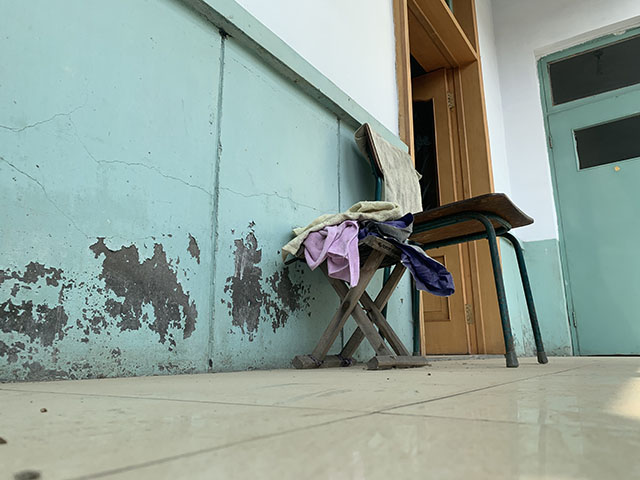stool: (413, 192, 551, 371), (289, 233, 431, 371)
